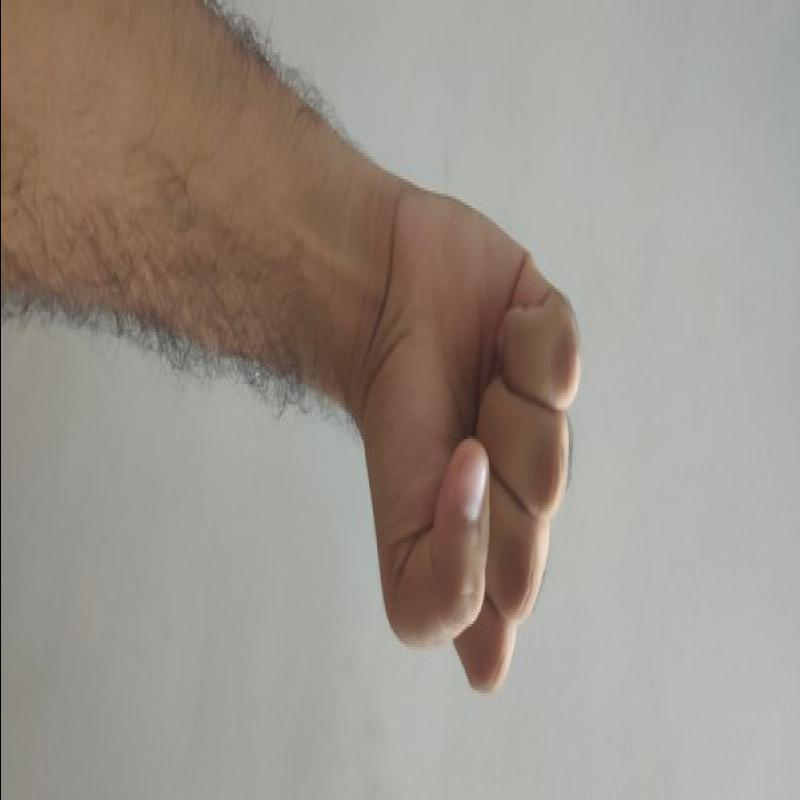Mushti: (337, 147, 596, 706)
